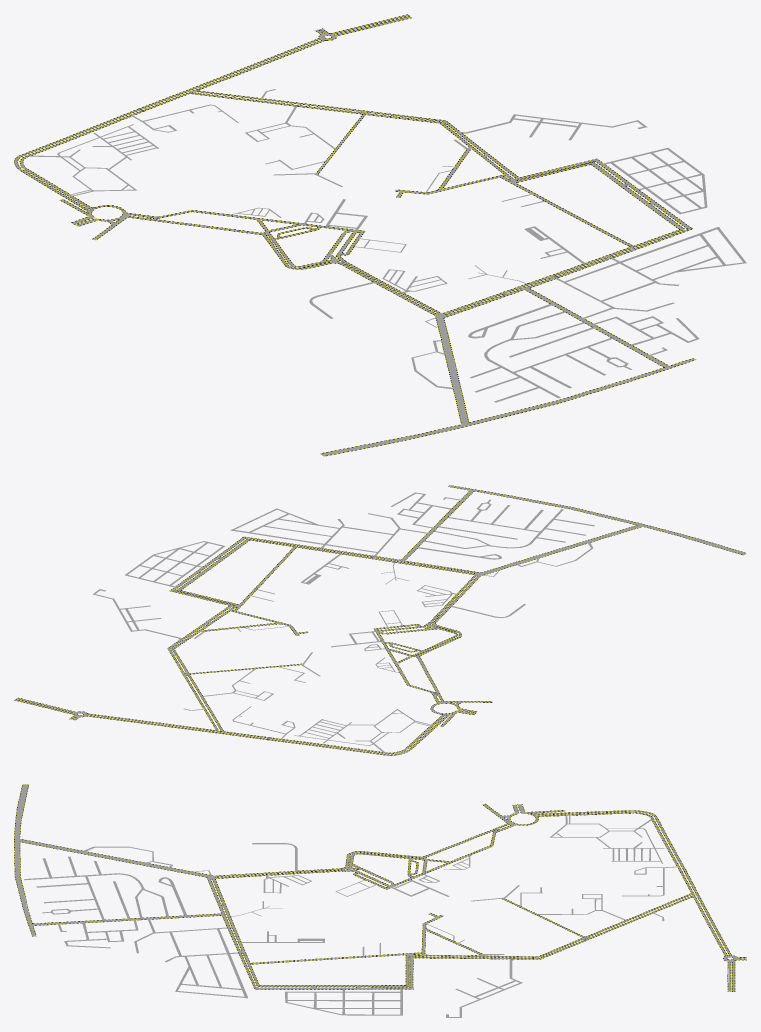
File: jalan.fbx
The picture shows the model from 3 angles, top to bottom: view 1: azimuth 30°, elevation 25°; view 2: azimuth 150°, elevation 25°; view 3: azimuth 270°, elevation 25°; orthographic projection. The views are drawn at different scales.
Visible parts, largest first — view 1: Plane, Cube_Cube.002; view 2: Plane, Cube_Cube.002; view 3: Plane, Cube_Cube.002.
Boxes of the visible parts, <box> form: Plane: <box>14,15,746,455</box>; Cube_Cube.002: <box>14,14,695,456</box>; Plane: <box>15,485,746,755</box>; Cube_Cube.002: <box>14,485,746,755</box>; Plane: <box>14,784,746,1017</box>; Cube_Cube.002: <box>14,784,746,991</box>.
Size of the model in its own units: 876 by 0.2611 by 1161.
